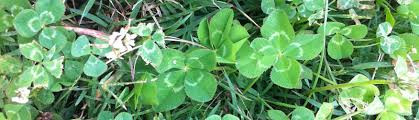4-clover: (242, 10, 324, 92), (149, 47, 219, 110)
